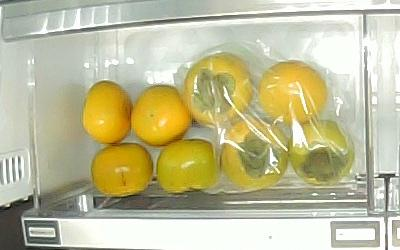persimmon: (129, 85, 192, 147), (91, 142, 154, 196), (156, 139, 214, 196), (81, 81, 133, 144)
persimmon_vinyl: (184, 52, 253, 125), (220, 120, 291, 189), (257, 60, 329, 125), (288, 118, 355, 185)
